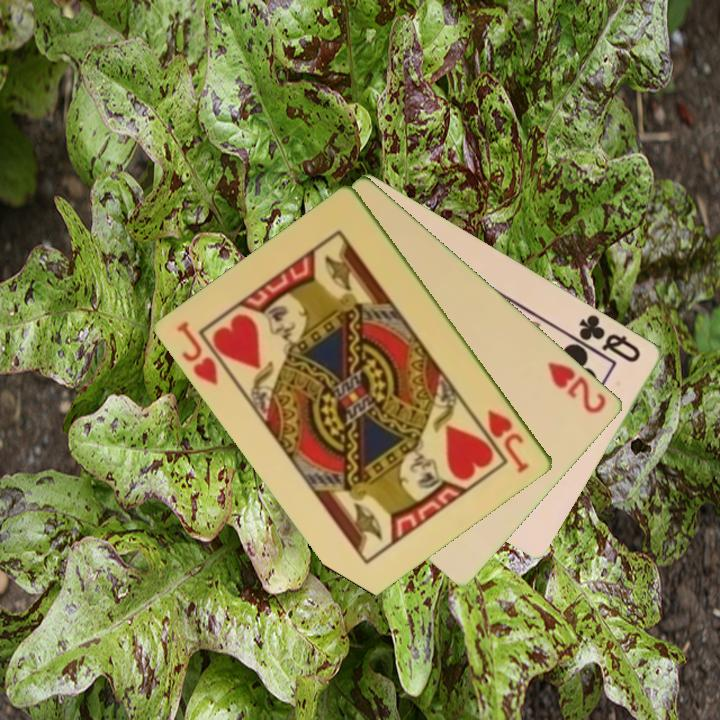2h: (544, 358, 610, 417)
Jh: (174, 317, 222, 389), (484, 406, 533, 476)
Qc: (567, 310, 645, 366)
